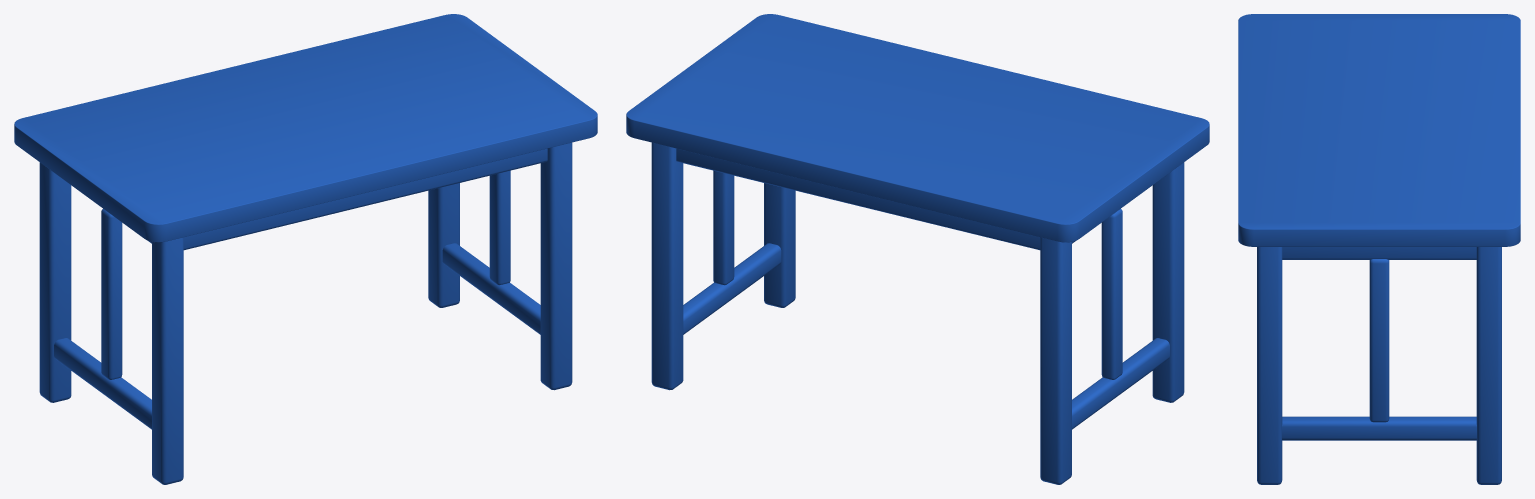
Rendered from mesa_jantar_cavalete_azul.glb.
3 views of the same model, side by side, from view 1: azimuth 30°, elevation 25°; view 2: azimuth 150°, elevation 25°; view 3: azimuth 270°, elevation 25° (orthographic). The views are drawn at different scales.
Visible parts, largest first — view 1: mesa_jantar_cavalete_azul; view 2: mesa_jantar_cavalete_azul; view 3: mesa_jantar_cavalete_azul.
Boxes of the visible parts, x1,y1,x2,y2 form: mesa_jantar_cavalete_azul: (14,14,597,484); mesa_jantar_cavalete_azul: (626,14,1209,484); mesa_jantar_cavalete_azul: (1238,14,1520,484).
Size of the model in its own units: 1.3 by 0.75 by 0.72.
1 material, 1 textured.
